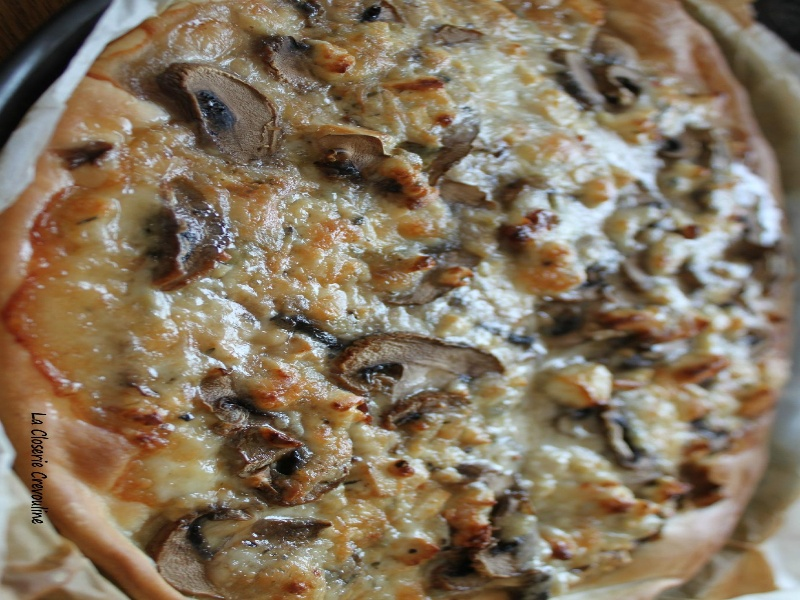champignon: (329, 327, 514, 424), (157, 56, 291, 174)
